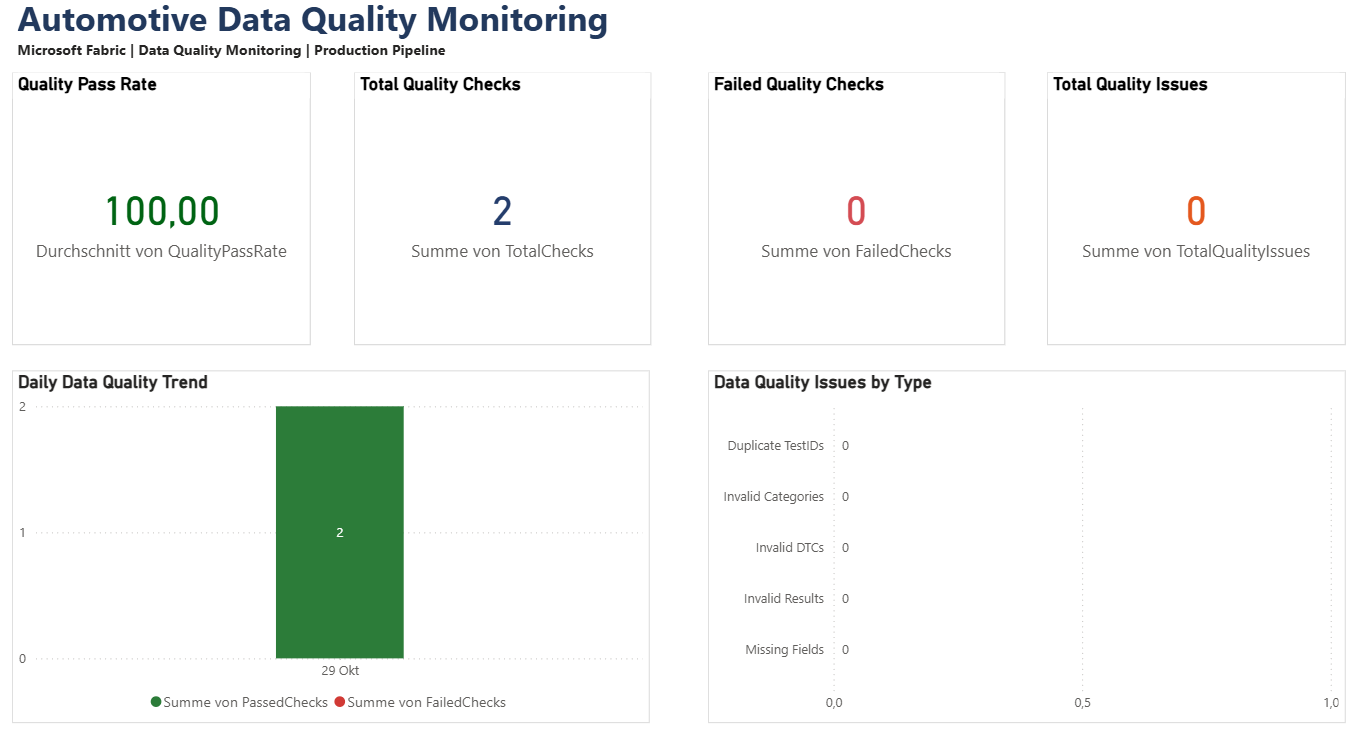

The dashboard page shown, as its layout file describes it:
{"tool":"powerbi","page":{"name":"Data Quality Monitoring","canvas":[1280,720],"ordinal":0},"visuals":[{"type":"card","title":"Quality Pass Rate","fields":{"Values":["Sum(vw_data_quality_kpis.QualityPassRate)"]},"box":[17.4,79.3,280.6,256.8],"z":0},{"type":"card","title":"Total Quality Checks","fields":{"Values":["CountNonNull(vw_data_quality_kpis.TotalChecks)"]},"box":[337.7,79.3,279,256.8],"z":1},{"type":"card","title":"Failed Quality Checks","fields":{"Values":["Sum(vw_data_quality_kpis.FailedChecks)"]},"box":[670.7,79.3,279,256.8],"z":2},{"type":"card","title":"Total Quality Issues","fields":{"Values":["Sum(vw_data_quality_kpis.TotalQualityIssues)"]},"box":[989.3,79.3,280.6,256.8],"z":3},{"type":"columnChart","title":"Daily Data Quality Trend","fields":{"Y":["Sum(vw_daily_data_quality_monitoring.PassedChecks)","Sum(vw_daily_data_quality_monitoring.FailedChecks)"],"Category":["vw_daily_data_quality_monitoring.CheckDate"]},"box":[17.4,359.9,599.3,331.4],"z":4},{"type":"clusteredBarChart","title":"Data Quality Issues by Type","fields":{"Category":["vw_data_quality_issues_by_type.IssueType"],"Y":["Sum(vw_data_quality_issues_by_type.IssueCount)"]},"box":[670.7,359.9,599.3,331.4],"z":5},{"type":"textbox","box":[17.4,0,710.3,79.3],"z":6}]}

Visuals, with their boxes in screenshot pixels (x1, y1, x2, y2), scaled from the page's 1280x720 canvas onto the 1351x746 screenshot:
"Quality Pass Rate" card: {"x1": 18, "y1": 82, "x2": 315, "y2": 348}
"Total Quality Checks" card: {"x1": 356, "y1": 82, "x2": 651, "y2": 348}
"Failed Quality Checks" card: {"x1": 708, "y1": 82, "x2": 1002, "y2": 348}
"Total Quality Issues" card: {"x1": 1044, "y1": 82, "x2": 1340, "y2": 348}
"Daily Data Quality Trend" columnChart: {"x1": 18, "y1": 373, "x2": 651, "y2": 716}
"Data Quality Issues by Type" clusteredBarChart: {"x1": 708, "y1": 373, "x2": 1340, "y2": 716}
textbox: {"x1": 18, "y1": 0, "x2": 768, "y2": 82}
